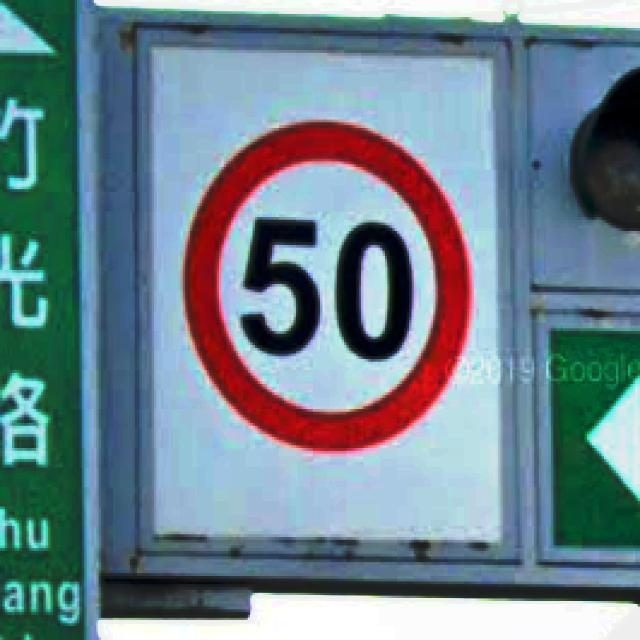max50: (180, 117, 472, 451)
